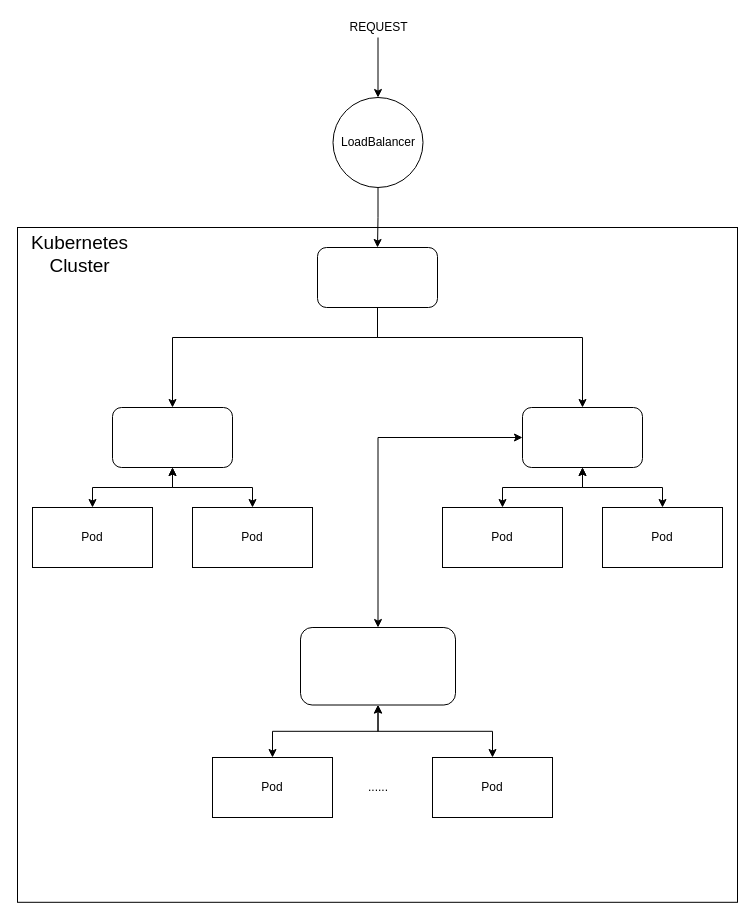
This 755x920 diagram has some shape labels left out. Here are the shapes that lost their labels. From the top down, the centre of each, then its label:
At (x=377, y=277): "Ingress Controller".
At (x=172, y=437): "Servicio Frontend".
At (x=582, y=437): "Servicio Backend".
At (x=378, y=665): "Servicio Computación".
